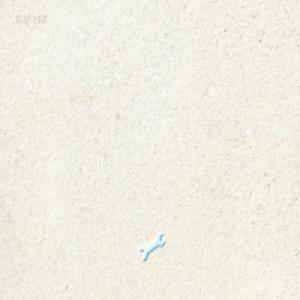Wrench: (140, 233, 164, 261)
